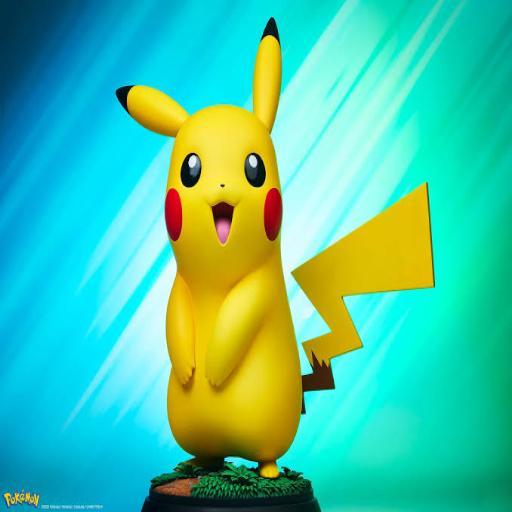Pikachu: (116, 17, 435, 476)
